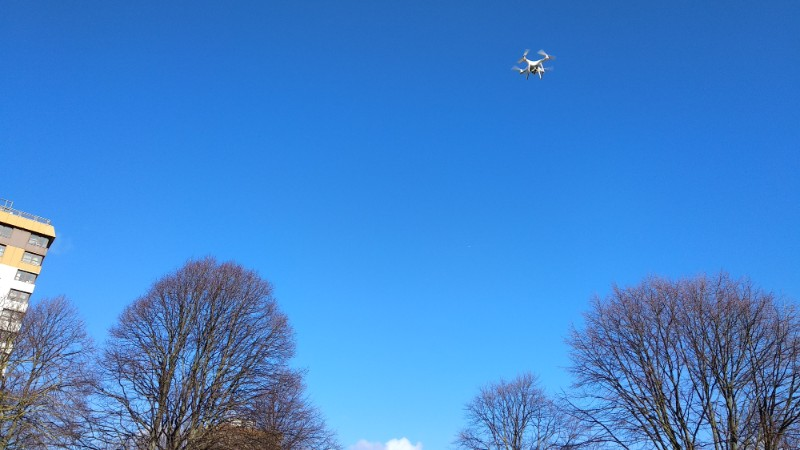drone: (510, 46, 556, 82)
